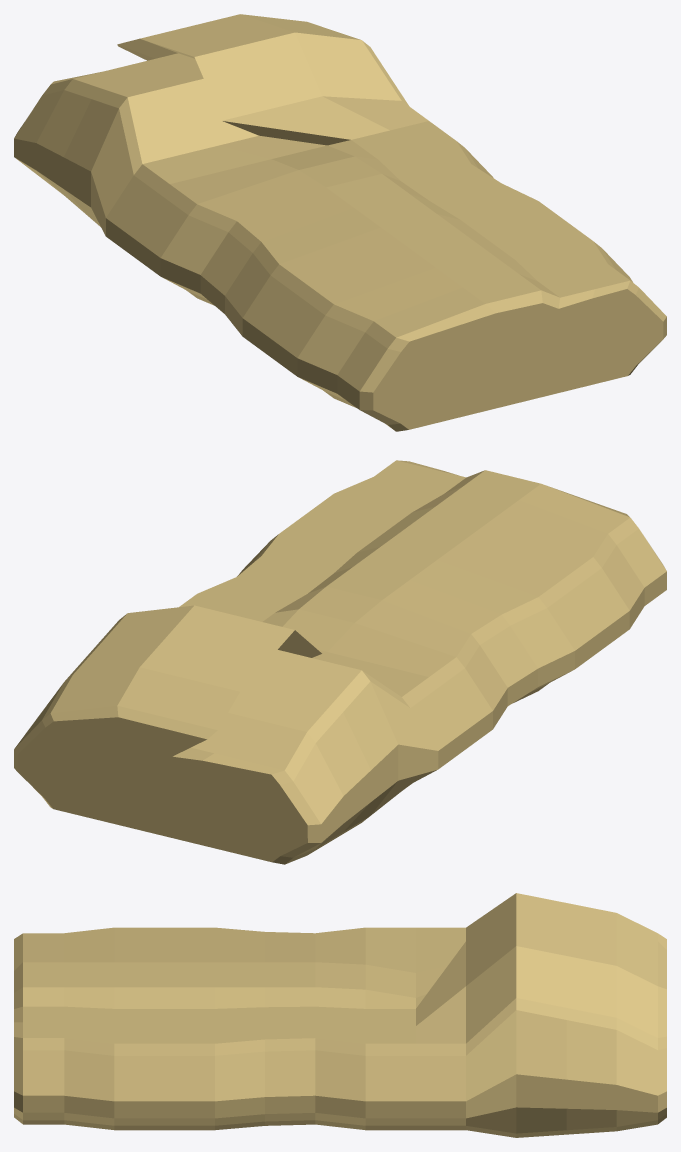
Rendered from tallow_medium_a.glb.
3 views of the same model, one above another, from view 1: azimuth 30°, elevation 25°; view 2: azimuth 150°, elevation 25°; view 3: azimuth 270°, elevation 25° (orthographic). The views are drawn at different scales.
Visible parts, largest first — view 1: tallow_medium_a; view 2: tallow_medium_a; view 3: tallow_medium_a.
Part boxes in pixels (<box>): tallow_medium_a: <box>14,14,666,431</box>; tallow_medium_a: <box>14,460,666,864</box>; tallow_medium_a: <box>14,893,666,1137</box>.
Bounding box in the file's own units: 3.4 × 1.73 × 6.3.
